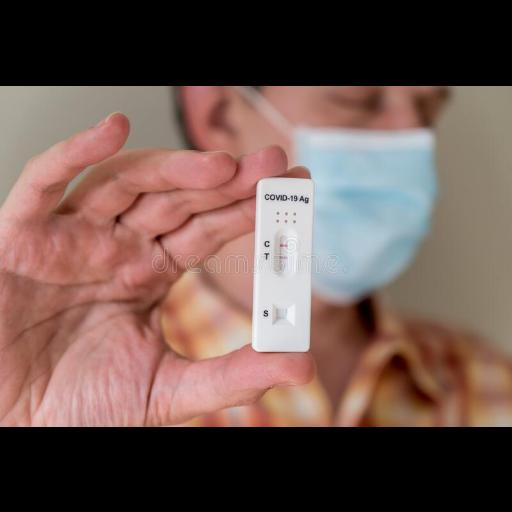Pos: (254, 178, 310, 350)
